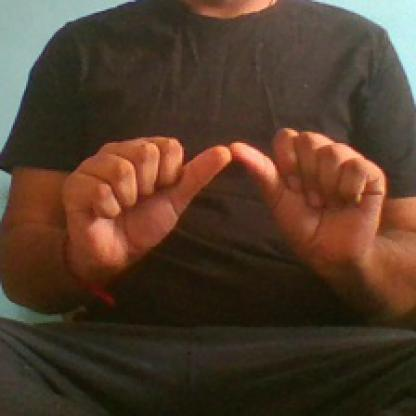A: (58, 117, 390, 287)
